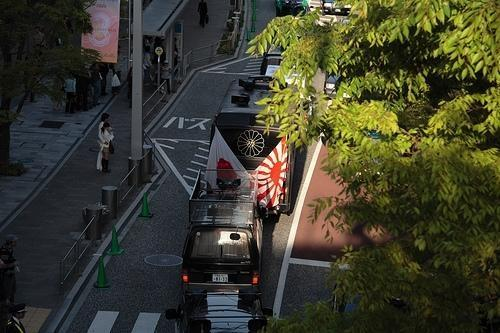bus: (204, 76, 299, 211)
car: (180, 169, 262, 295), (166, 295, 274, 329)
truck: (207, 74, 300, 217), (180, 166, 265, 292), (174, 291, 266, 333), (260, 43, 287, 76)
